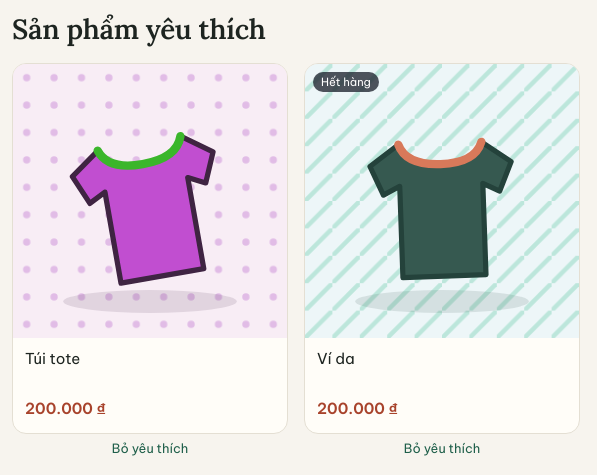
WishlistPage › hiện sản phẩm yêu thích, hết hàng vẫn hiện, bỏ 1 sản phẩm thì ẩn ngay
Expected: the text "Hết hàng" is shown, [313,72,379,92]
Click the button with aria-label "Bỏ Túi tote khỏi danh sách yêu thích" at (150, 448), box [12,438,288,459]
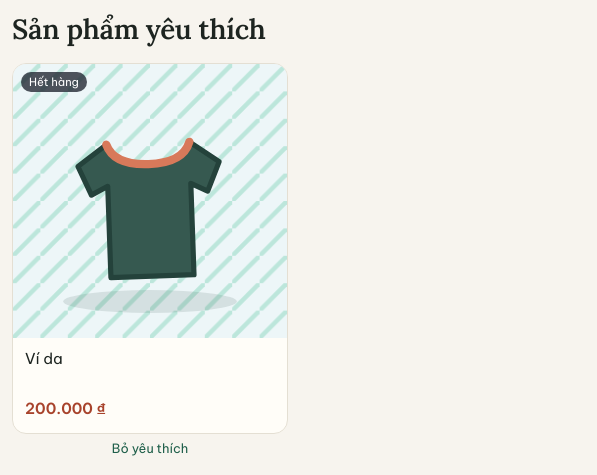
Expected: the link "Hết hàng Ví da 200.000 ₫" is shown, [12,63,288,434]
Now the link "Túi tote" is gone
